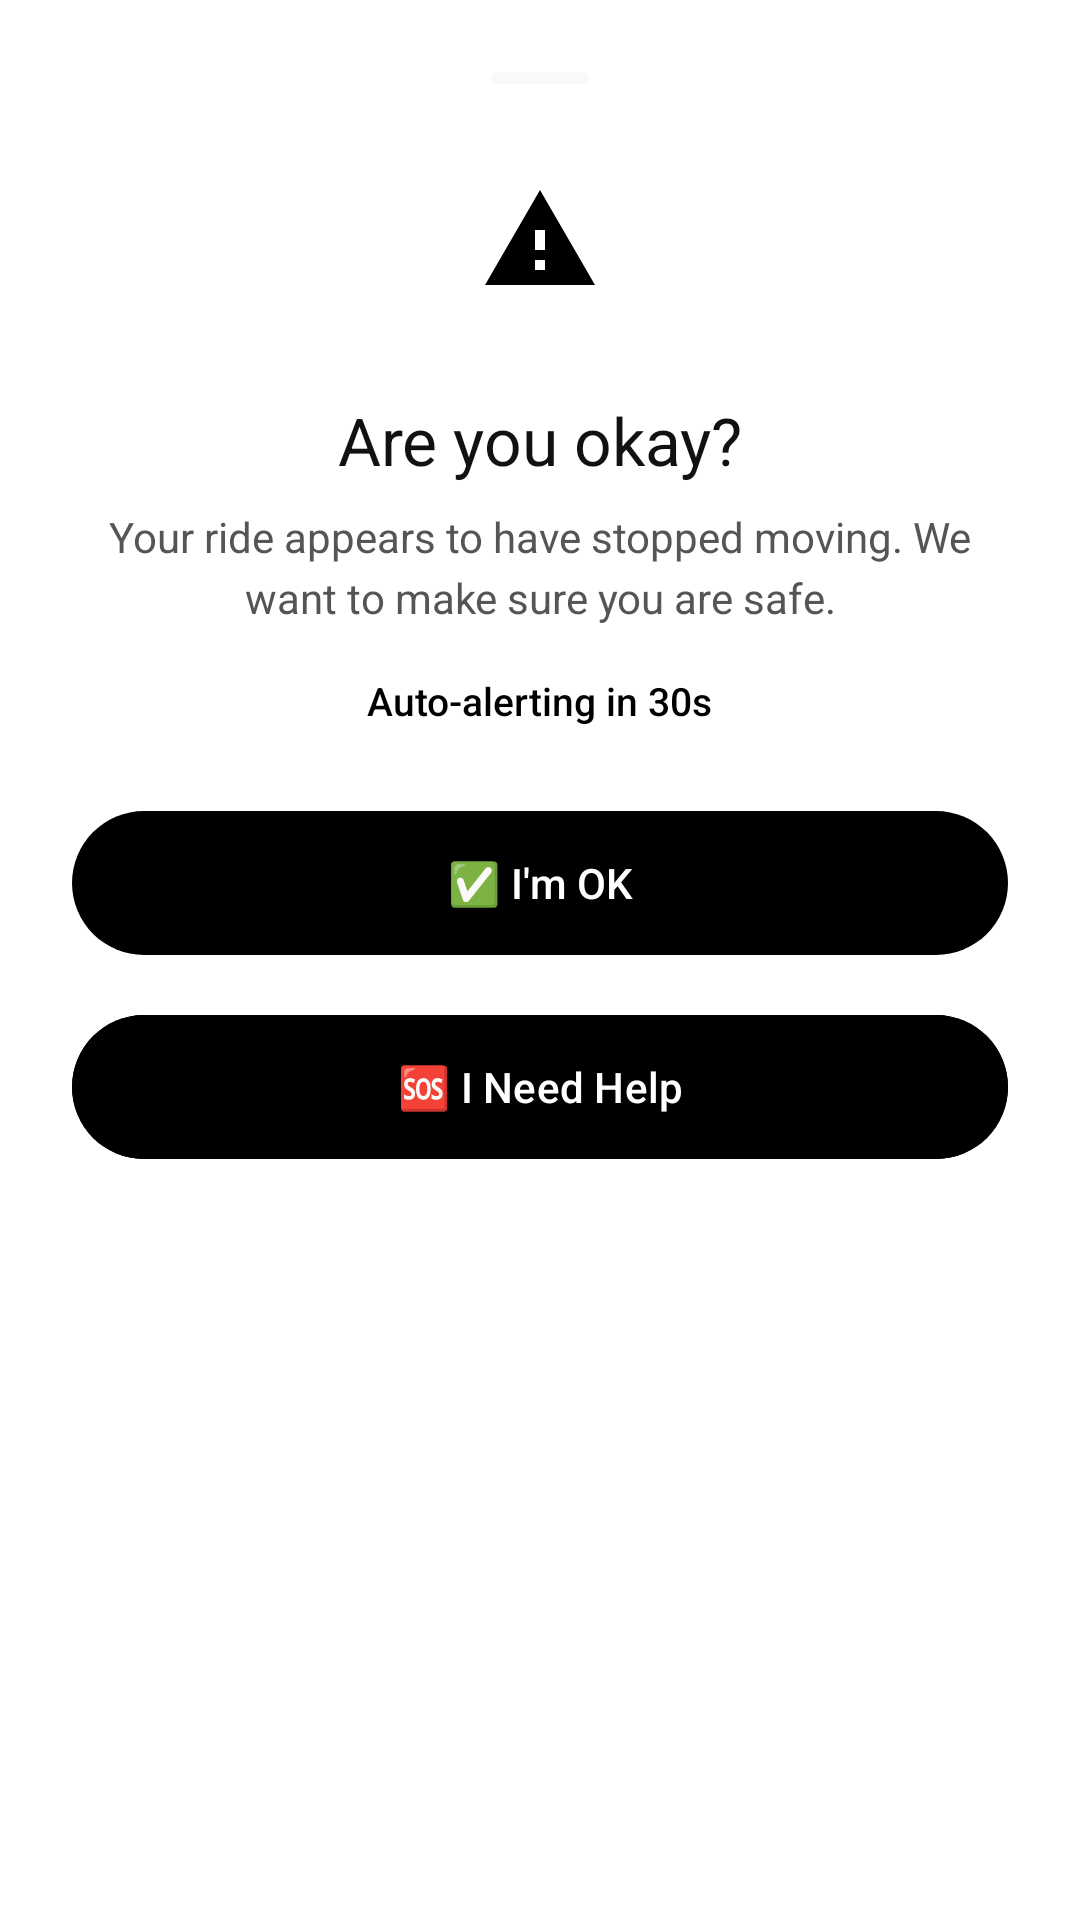

Named icons in this screenshot (1080px x 1920px) and their bounding boxes, (x1, y1, x2, y2):
warning: (485, 190, 595, 285)
